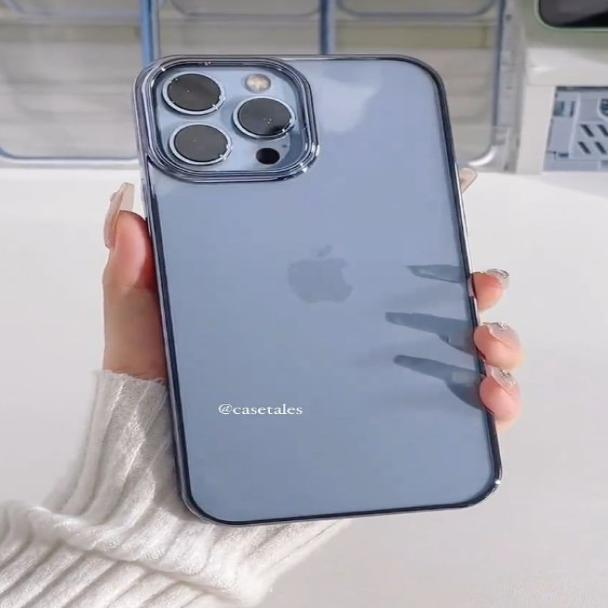Handphone: (140, 53, 506, 526)
